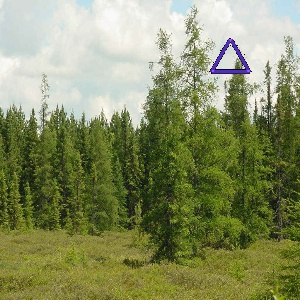triangle: (207, 35, 255, 79)
